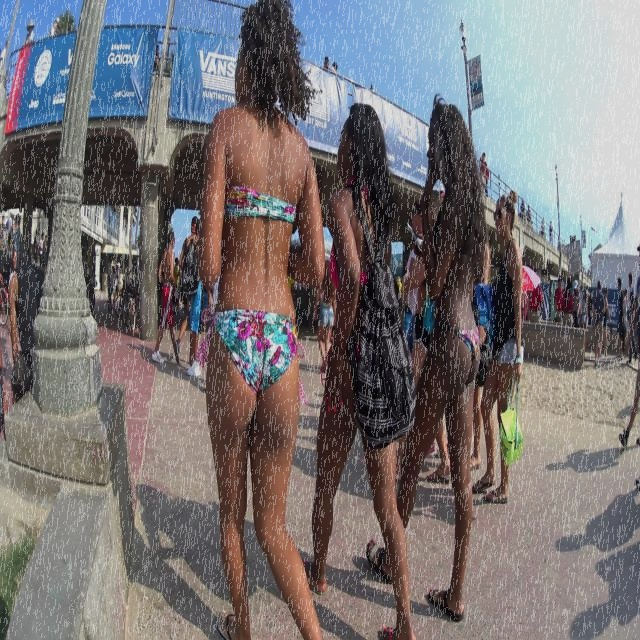pessoa: (193, 0, 335, 639), (292, 93, 424, 639), (362, 87, 490, 624), (469, 187, 526, 508), (395, 188, 452, 484), (436, 194, 492, 476), (136, 473, 220, 619), (566, 554, 640, 636), (8, 264, 44, 407), (618, 241, 640, 450), (398, 198, 424, 356), (556, 504, 638, 554), (150, 230, 180, 364), (173, 214, 199, 364), (180, 218, 204, 378), (312, 258, 337, 376), (546, 444, 622, 474), (626, 270, 640, 364), (592, 279, 606, 369), (614, 277, 625, 363), (602, 286, 614, 358), (560, 276, 576, 328), (527, 282, 543, 324), (172, 256, 182, 315), (12, 212, 22, 270), (622, 287, 630, 357), (552, 276, 564, 322), (106, 253, 115, 312), (572, 278, 582, 328), (202, 286, 212, 332), (112, 258, 121, 304), (580, 287, 590, 328), (21, 18, 35, 46), (107, 257, 115, 305), (6, 210, 14, 254), (32, 228, 40, 272), (38, 231, 46, 268), (587, 288, 594, 326), (484, 161, 491, 197), (50, 15, 60, 38), (524, 202, 532, 230), (0, 213, 6, 250), (516, 196, 526, 218), (521, 287, 528, 318), (212, 281, 219, 311), (154, 44, 160, 76), (478, 150, 488, 167), (9, 212, 15, 238), (42, 234, 48, 260), (548, 220, 554, 246), (323, 55, 332, 70), (329, 60, 338, 74), (2, 226, 7, 250), (586, 290, 590, 318), (540, 220, 544, 237)
